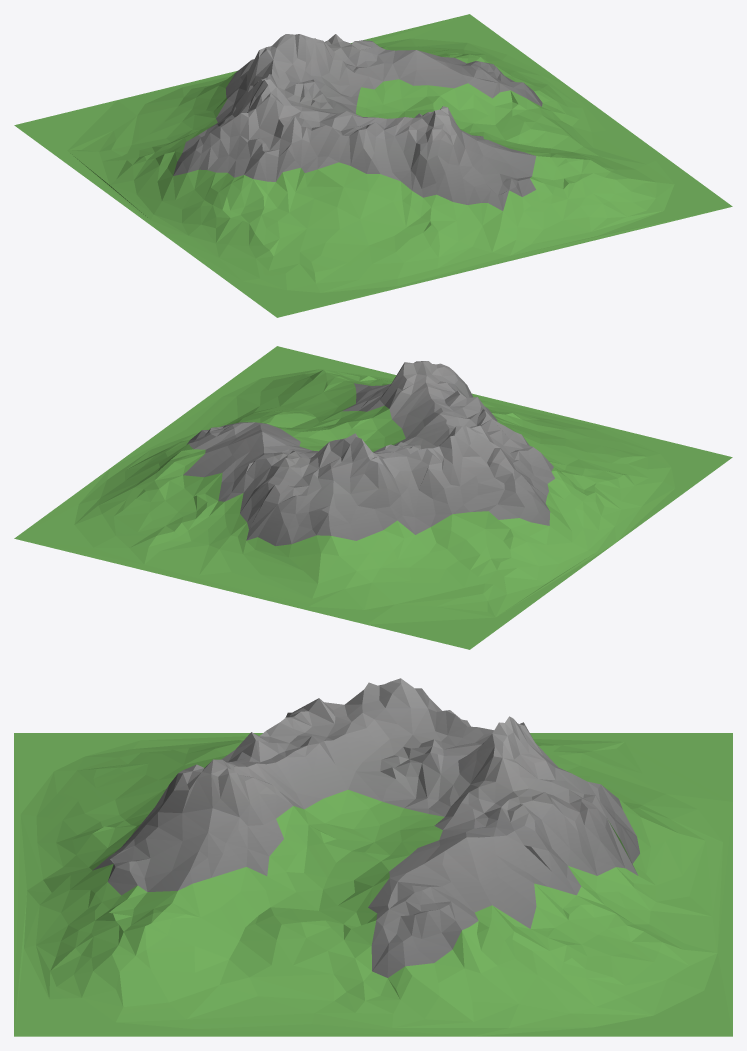
Rendered from SM_Nature_Landscape_04.fbx.
3 views of the same model, one above another, from view 1: azimuth 30°, elevation 25°; view 2: azimuth 150°, elevation 25°; view 3: azimuth 270°, elevation 25° (orthographic). The views are drawn at different scales.
Visible parts, largest first — view 1: SM_Nature_Landscape_04; view 2: SM_Nature_Landscape_04; view 3: SM_Nature_Landscape_04.
Boxes of the visible parts, x1,y1,x2,y2 form: SM_Nature_Landscape_04: (14,14,732,317); SM_Nature_Landscape_04: (14,346,732,649); SM_Nature_Landscape_04: (14,678,732,1036).
Bounding box in the file's own units: 100 × 22.07 × 100.
